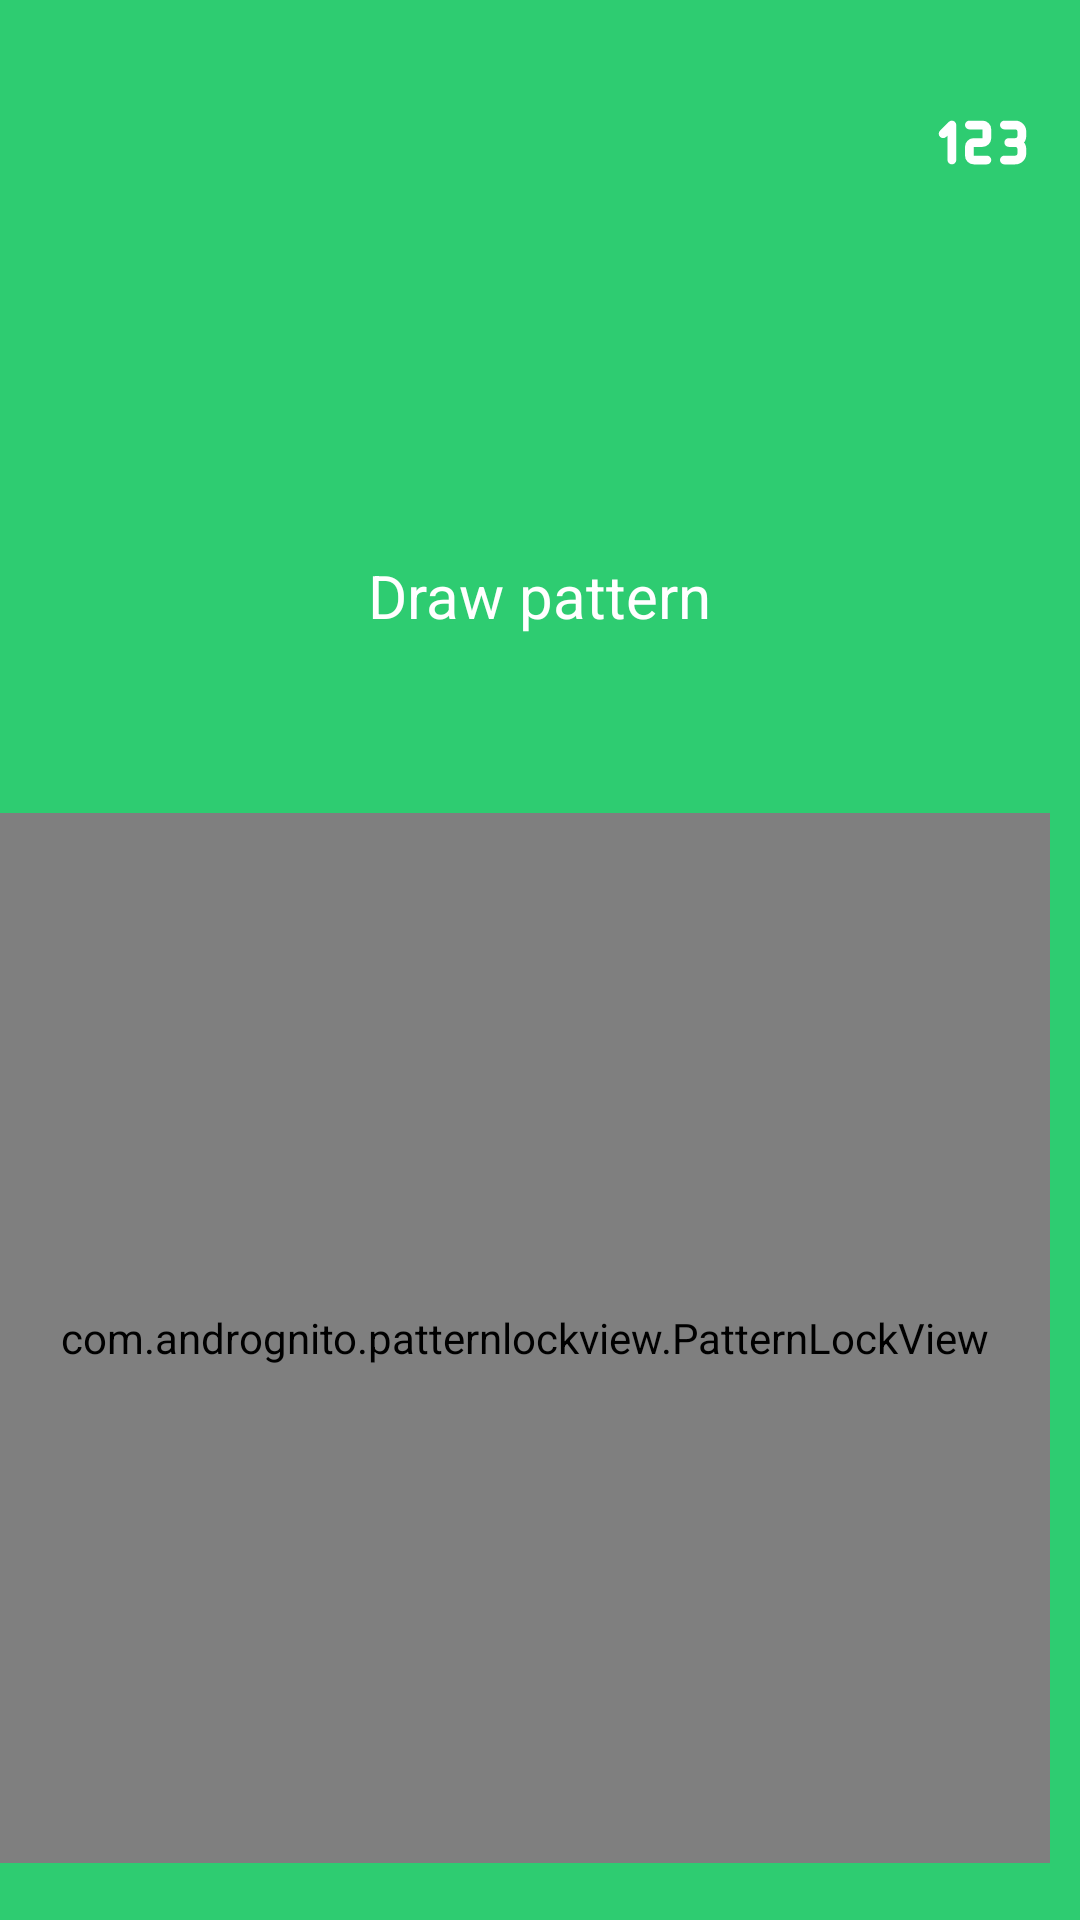

Named icons in this screenshot (1080*1920) and their centers, [x,y]:
pin password: [982,142]
